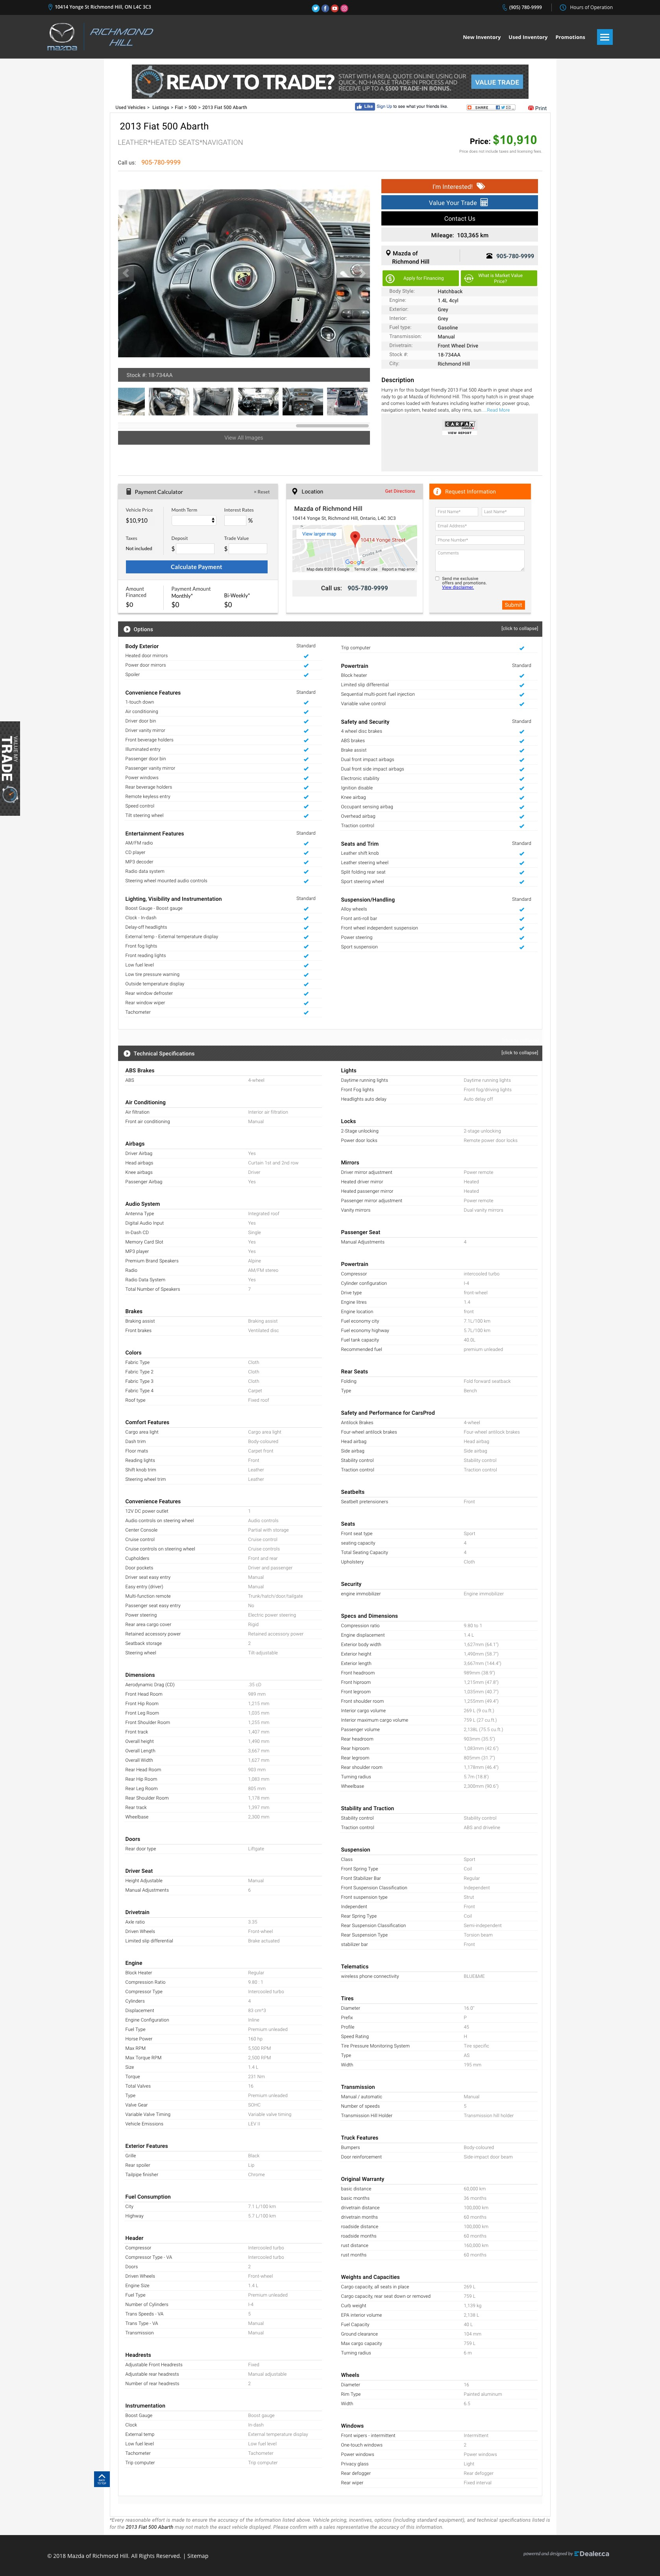car: (353, 266, 373, 286)
